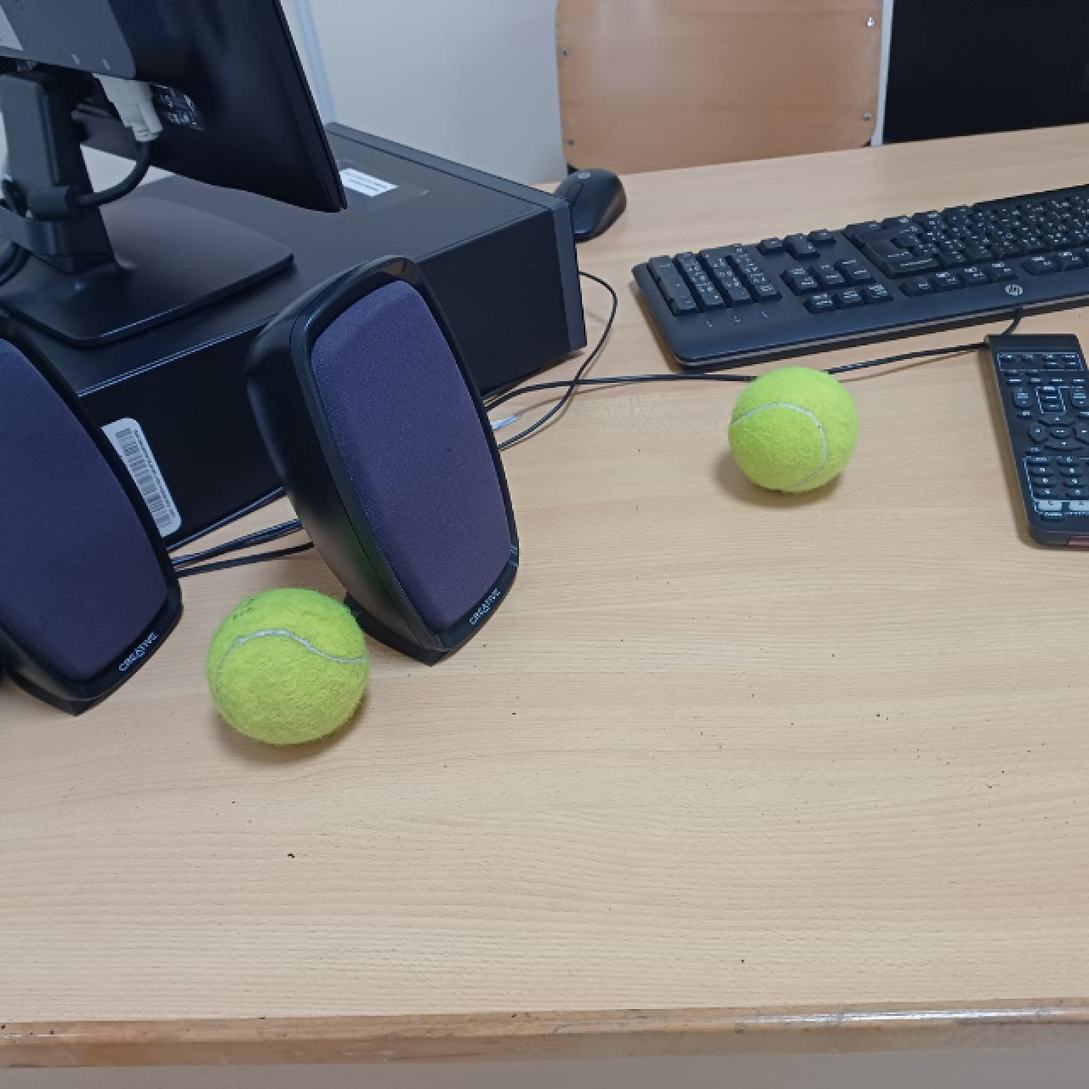tennis-ball: (205, 585, 367, 747), (727, 365, 859, 496)
